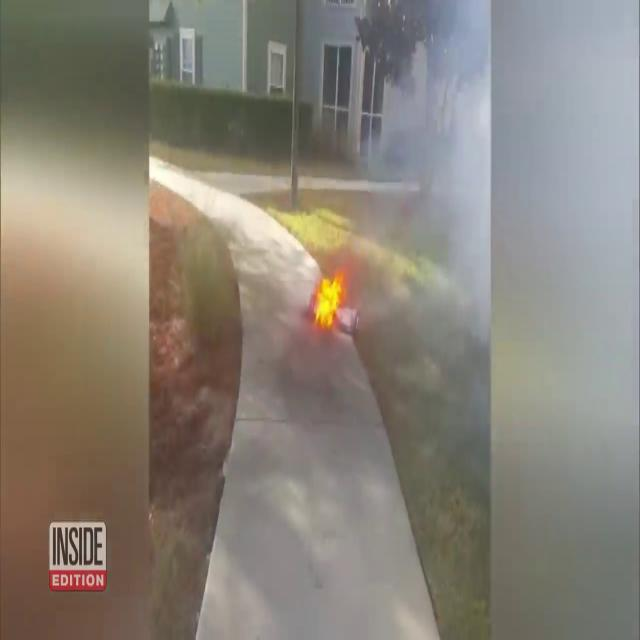Fire: (312, 266, 348, 330)
Smoke: (353, 0, 491, 384)
